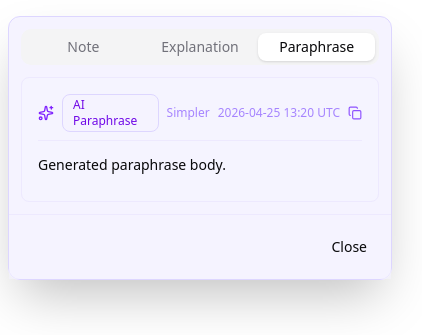
Test: NotePopover › shows a copy button on the paraphrase tab and copies content to clipboard
Click the button titled "Copy to clipboard" at (355, 113), box left=348, top=106, right=362, bottom=120
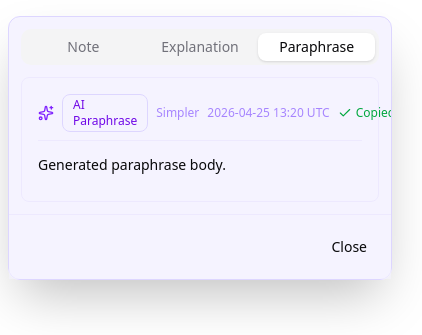
Result: the text "Copied!" is shown at left=356, top=105, right=391, bottom=121
